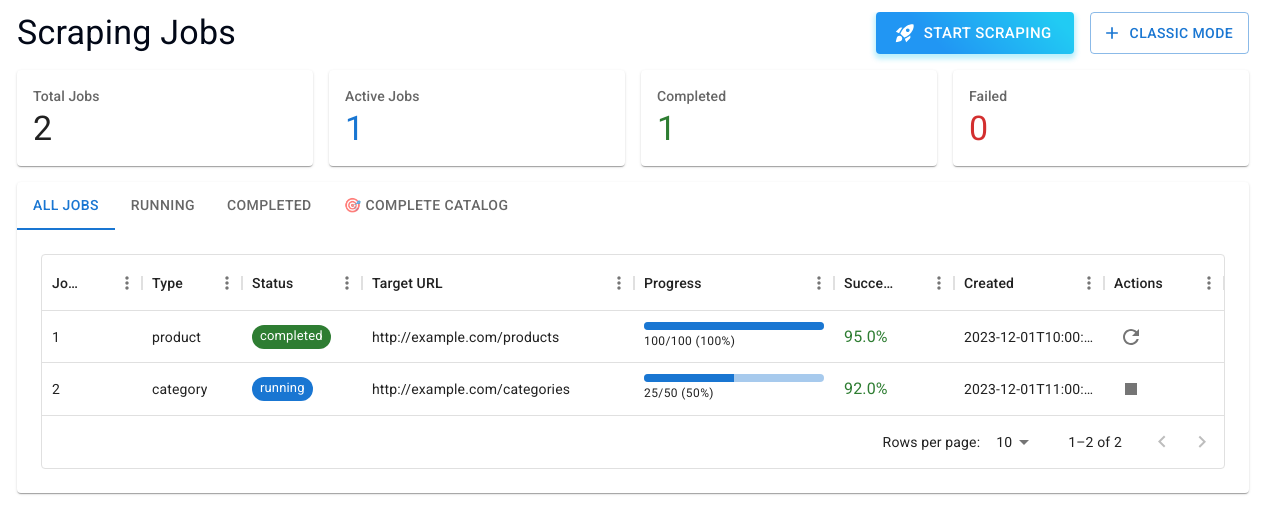
Scraping Page › should switch between tabs
Note: Click on Running tab
Click the tab "Running".
click(163, 206)  # box top-left (115, 182), bottom-right (211, 230)
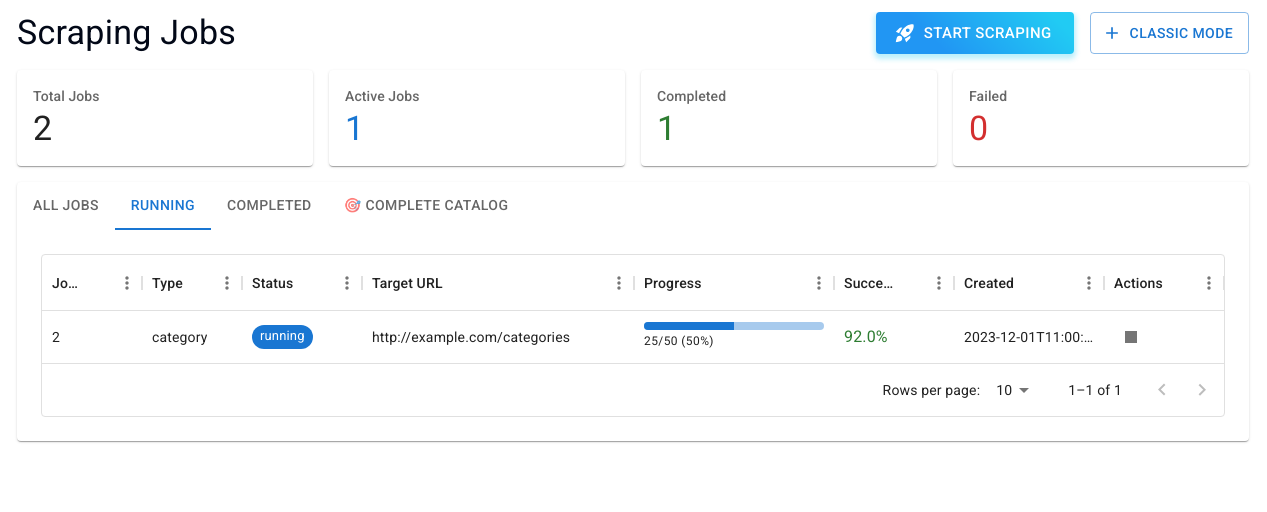
Expected: the text "running" is shown, top-left (260, 328), bottom-right (305, 343)
Note: Click on Completed tab
Click the tab "Completed".
click(269, 206)  # box top-left (211, 182), bottom-right (328, 230)
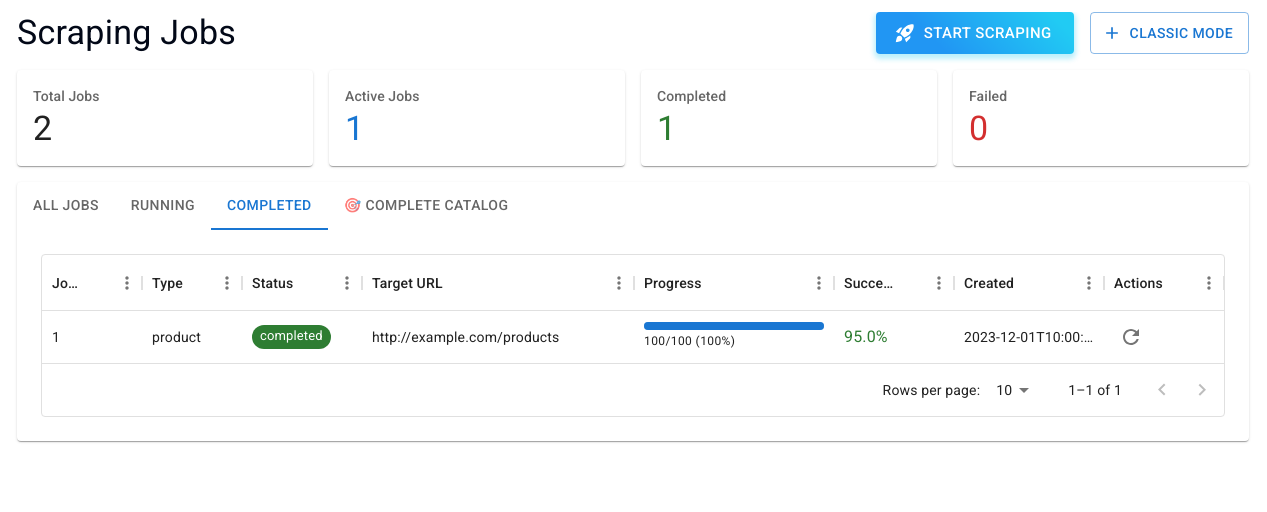
Now the text "completed" is shown, box top-left (260, 328), bottom-right (323, 343)
